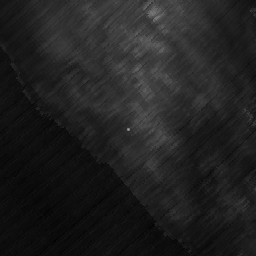Target: (124, 125, 132, 133)
